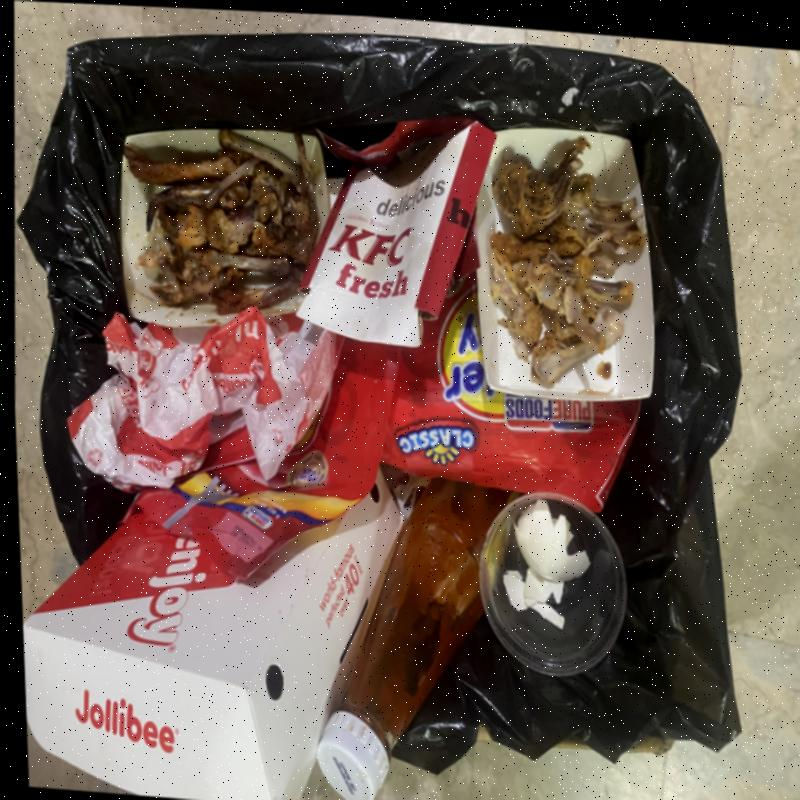cardboard: (23, 470, 406, 800), (293, 119, 496, 343)
egg shell: (501, 498, 591, 630)
food wrapper: (377, 212, 640, 512), (132, 333, 404, 583)
glass bottle: (317, 475, 521, 800)
left-over food: (487, 135, 649, 381), (124, 125, 318, 314)
paper: (66, 304, 336, 493)
